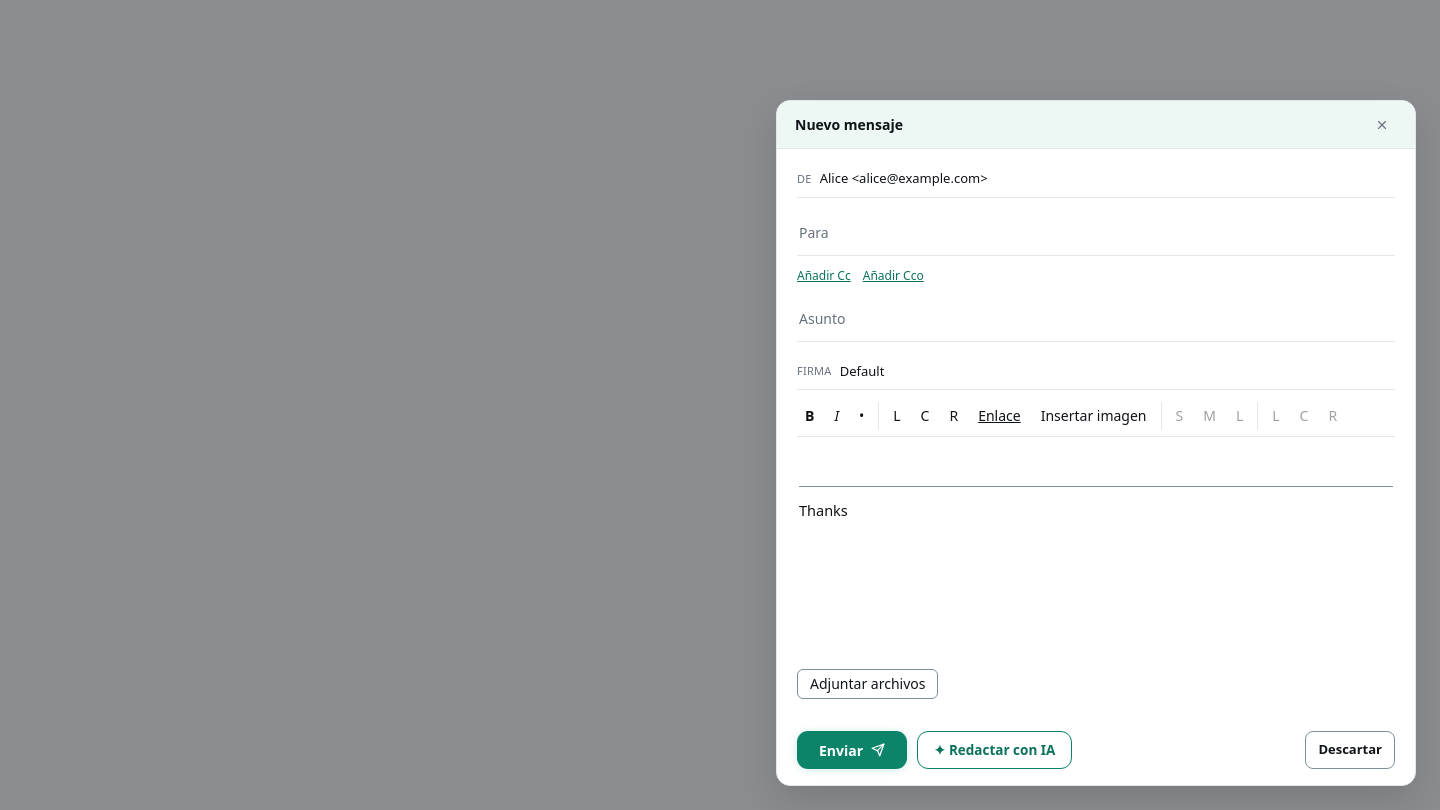
Test: Composer › default signature auto-apply and switching › replaces the applied signature instead of stacking a second one when switching
Expected: the field named "Mensaje" reads "Thanks", top-left (799, 486), bottom-right (1393, 522)
Step 1. Select "Alt" in the dropdown labelled "Firma" → (1117, 371), box top-left (840, 358), bottom-right (1395, 385)
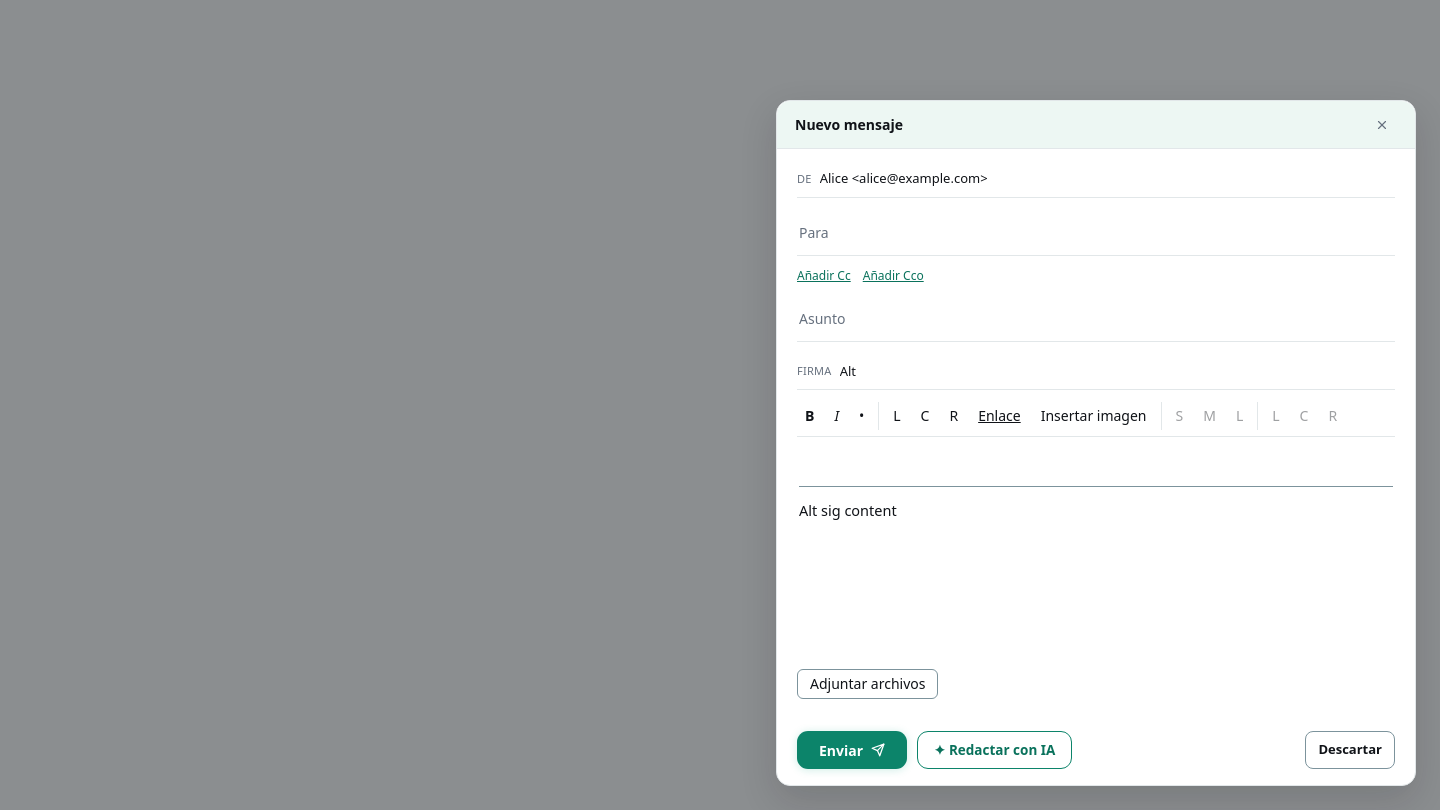
Expected: the field named "Mensaje" reads "Alt sig content", top-left (799, 486), bottom-right (1393, 522)
Expected: the field labelled "Mensaje" no longer shows "Thanks"
// Switching back doesn't stack a second copy of the default either.
Step 2. Select "Default" in the dropdown labelled "Firma" → (1117, 371), box top-left (840, 358), bottom-right (1395, 385)
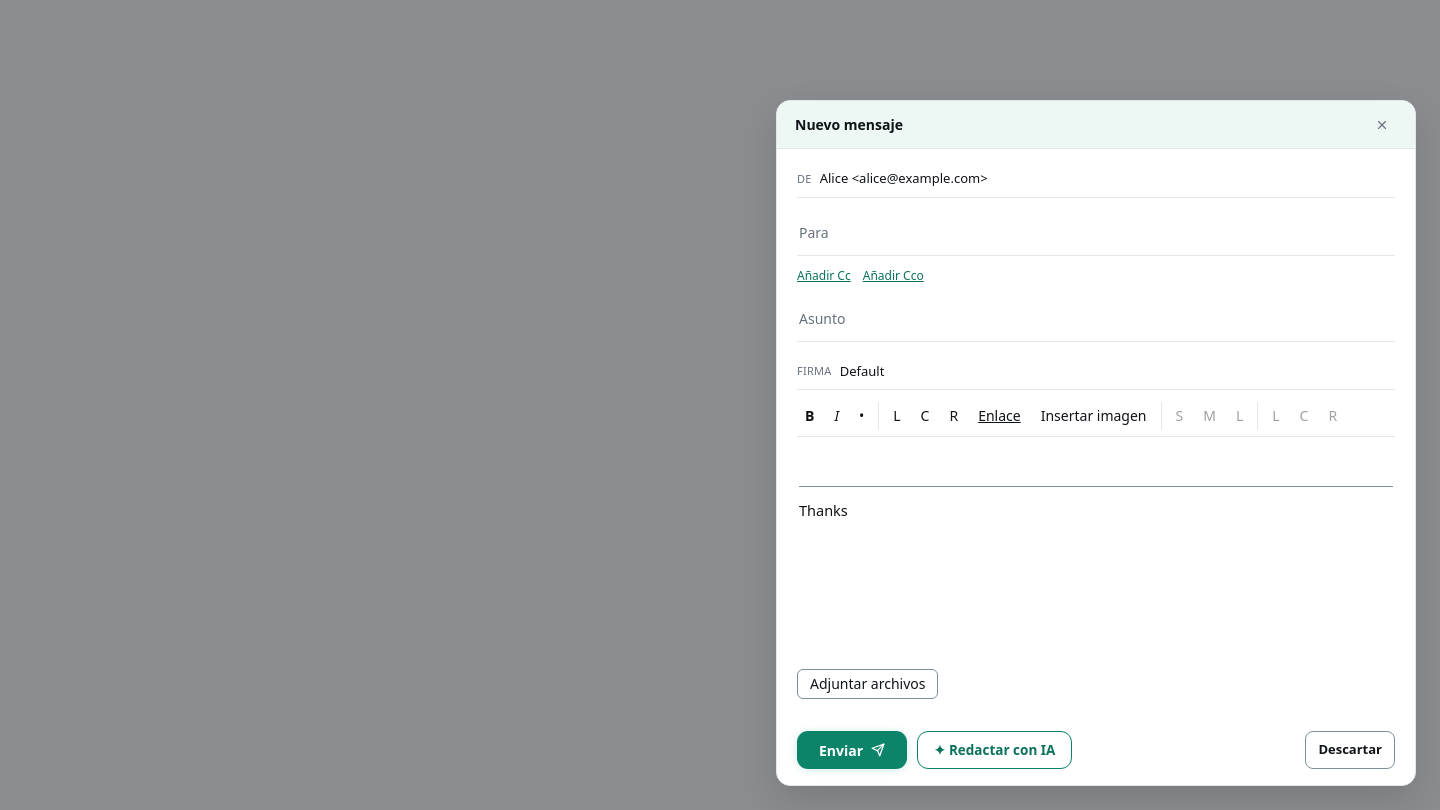
Expected: the field named "Mensaje" reads "Thanks", top-left (799, 486), bottom-right (1393, 522)
Expected: the field labelled "Mensaje" no longer shows "Alt sig content"
